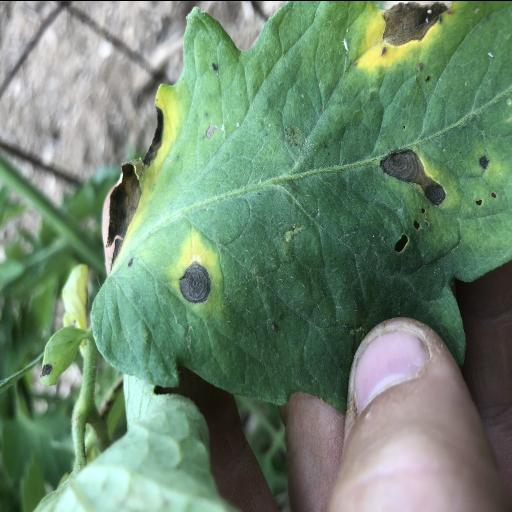disease_tomato: (91, 0, 512, 411)
